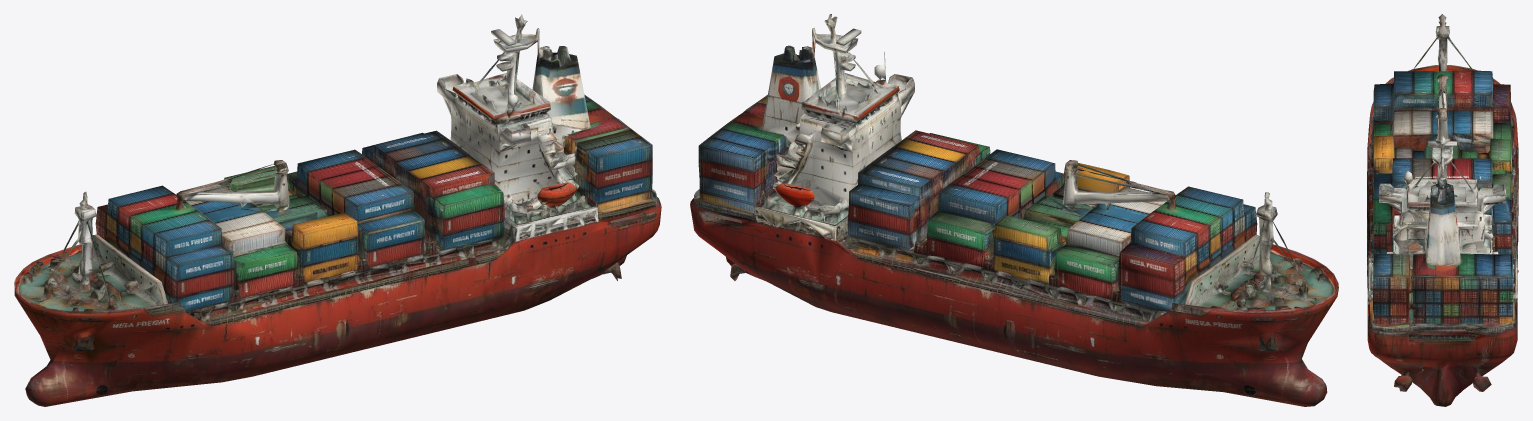
The model's file is ship.glb.
The picture shows the model from 3 angles, left to right: view 1: azimuth 30°, elevation 25°; view 2: azimuth 150°, elevation 25°; view 3: azimuth 270°, elevation 25°; orthographic projection. The views are drawn at different scales.
Parts seen in each view (by area): view 1: Mesh_0; view 2: Mesh_0; view 3: Mesh_0.
Part boxes in pixels (<box>): Mesh_0: <box>14,14,661,406</box>; Mesh_0: <box>690,14,1338,406</box>; Mesh_0: <box>1367,14,1518,406</box>.
Size of the model in its own units: 1.9 by 0.8239 by 0.4852.
Materials: 1 (1 with a texture image).
